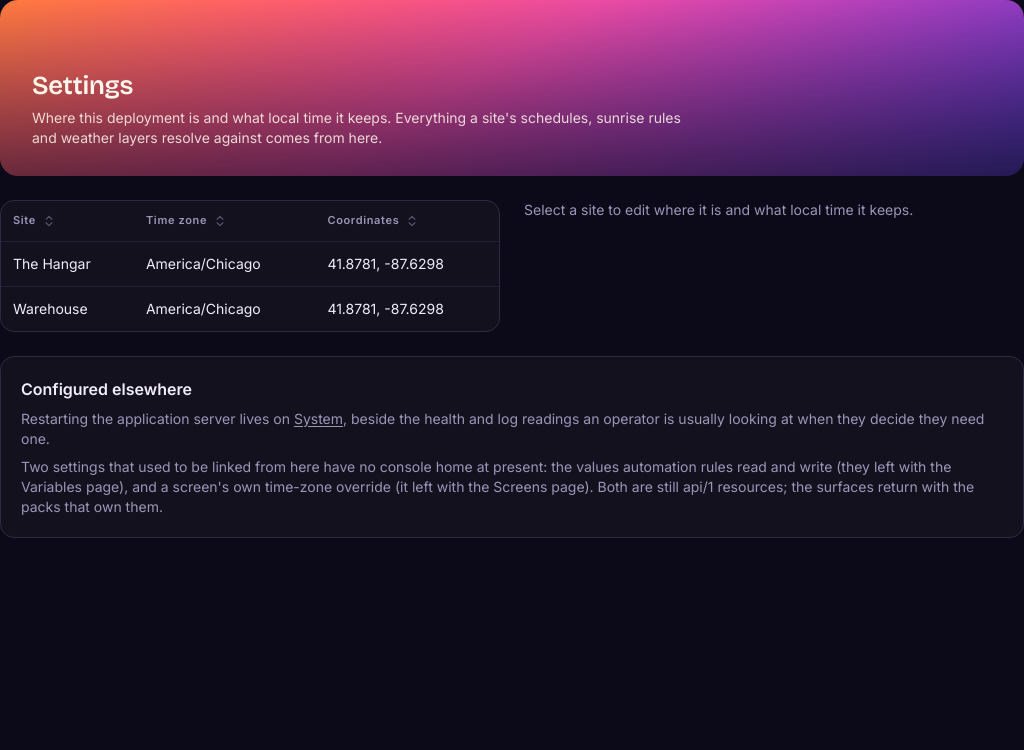
Settings — saving a site, driven › does not carry a success message across to another site
Check: the table named "Sites" is shown, box [1,201,499,330]
Click the button "The Hangar" at {"x": 250, "y": 264}, box [1,241,499,286]
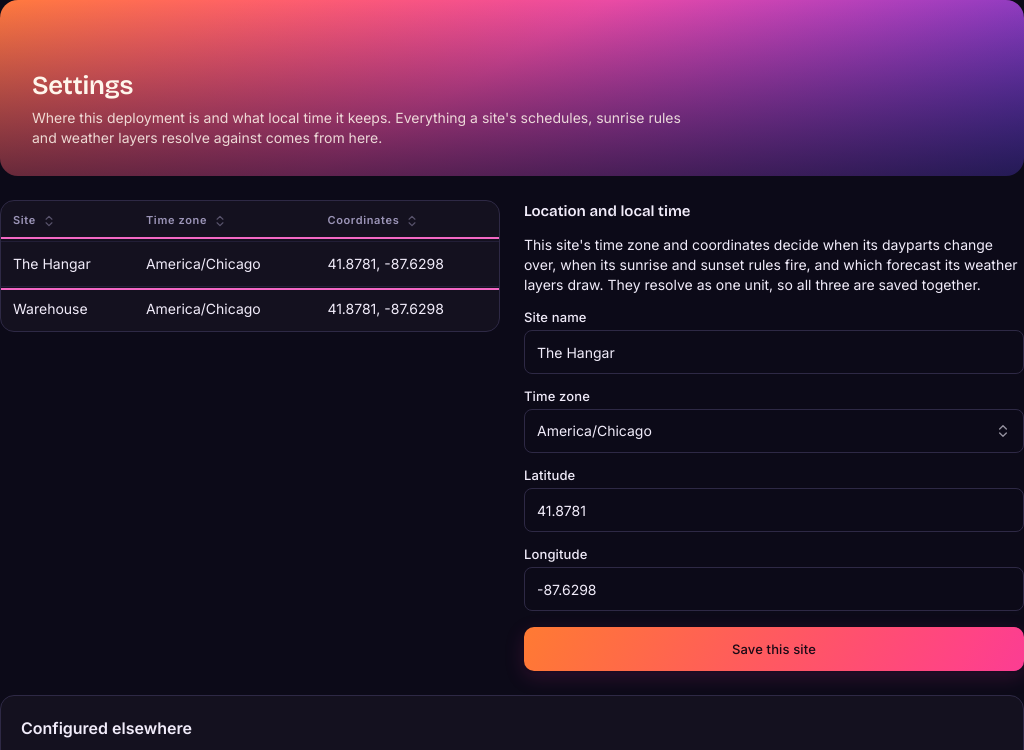
Check: the field labelled "Site name" is shown, box [524,330,1023,374]
Click the button "Save this site" at {"x": 774, "y": 649}, box [524,627,1023,671]
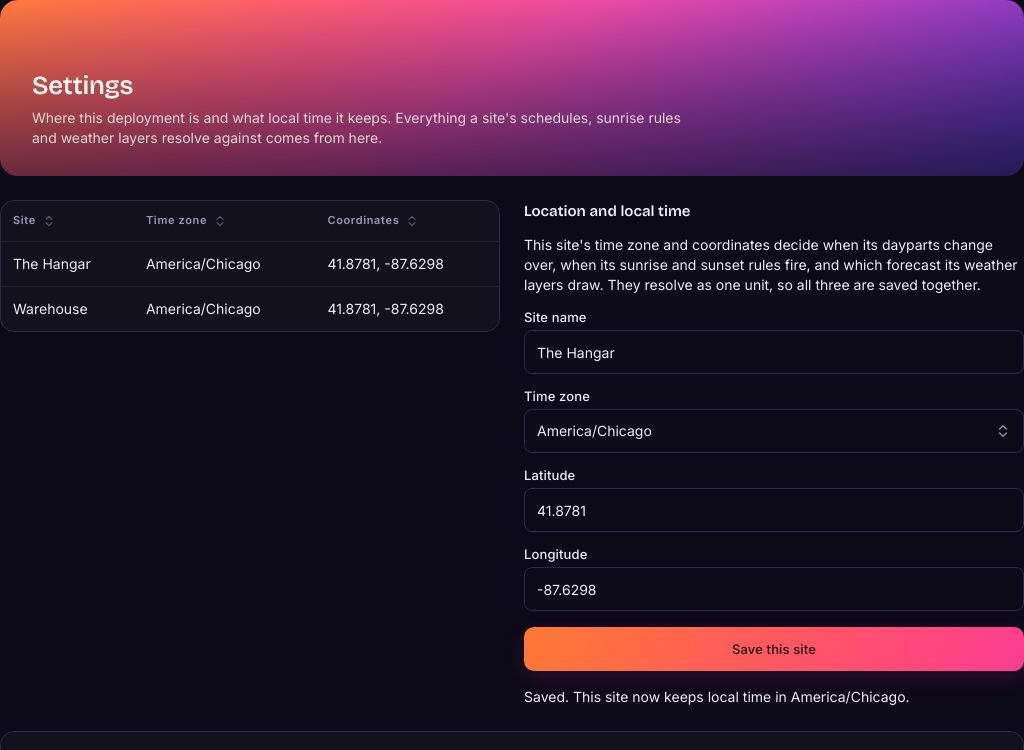
Check: the text "Saved. This site now keeps local time in America/Chicago." is shown, box [524,688,910,705]
Click the button "Warehouse" at {"x": 250, "y": 308}, box [1,286,499,330]
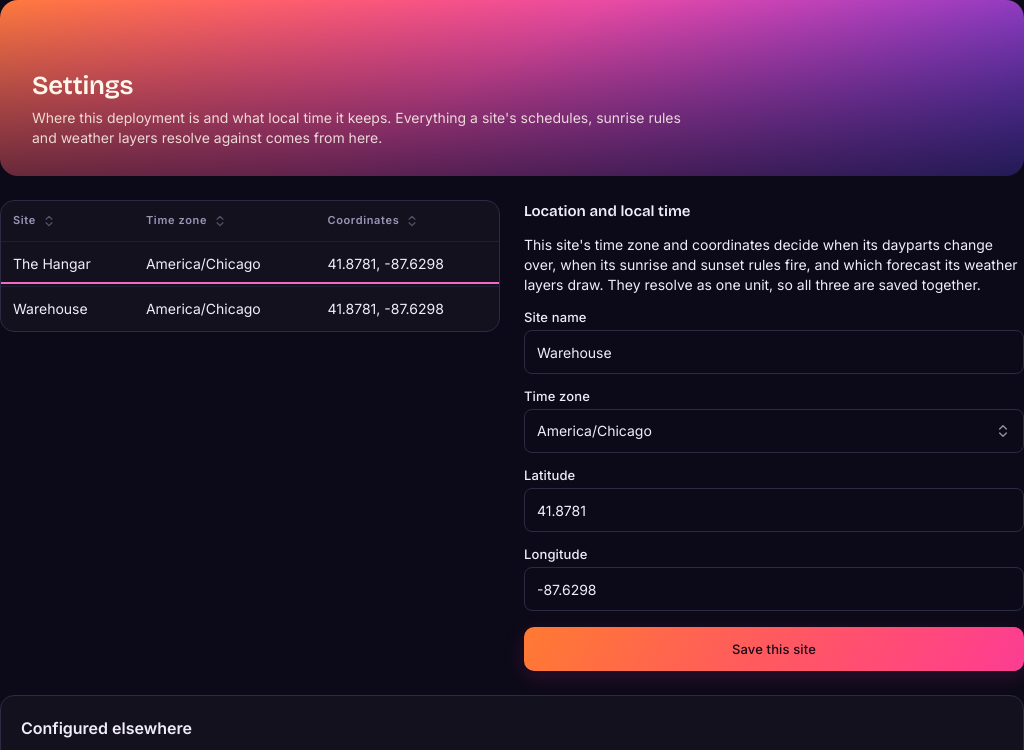
Check: the text "Saved." is gone
